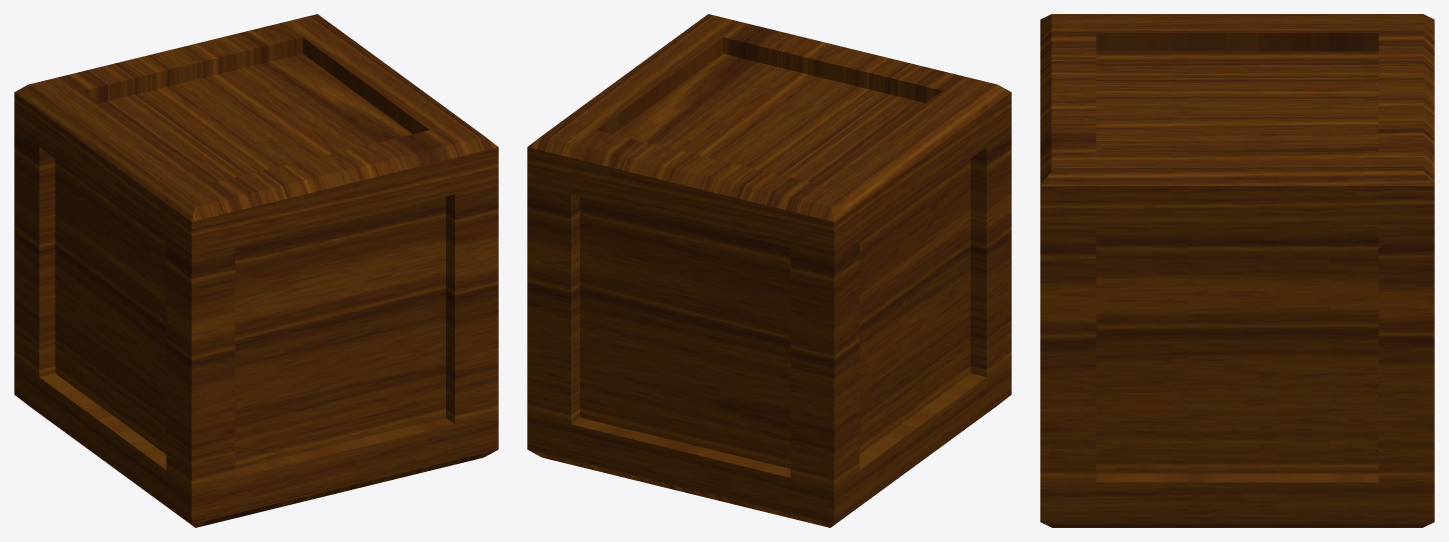
The model's file is Woddenbox.fbx.
3 views of the same model, side by side, from view 1: azimuth 30°, elevation 25°; view 2: azimuth 150°, elevation 25°; view 3: azimuth 270°, elevation 25° (orthographic). The views are drawn at different scales.
Parts seen in each view (by area): view 1: Cube; view 2: Cube; view 3: Cube.
Part boxes in pixels (<box>): Cube: <box>14,14,498,527</box>; Cube: <box>527,14,1011,527</box>; Cube: <box>1040,14,1434,527</box>.
Bounding box in the file's own units: 200 × 200 × 200.
1 material, 1 textured.
